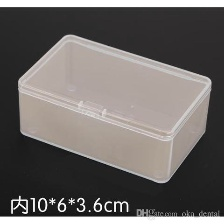plastic_box: (10, 28, 217, 189)
